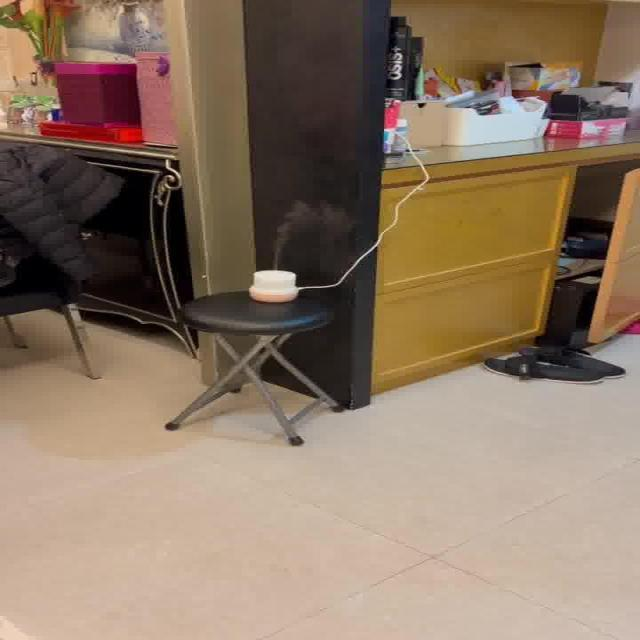fire: (268, 199, 349, 269)
